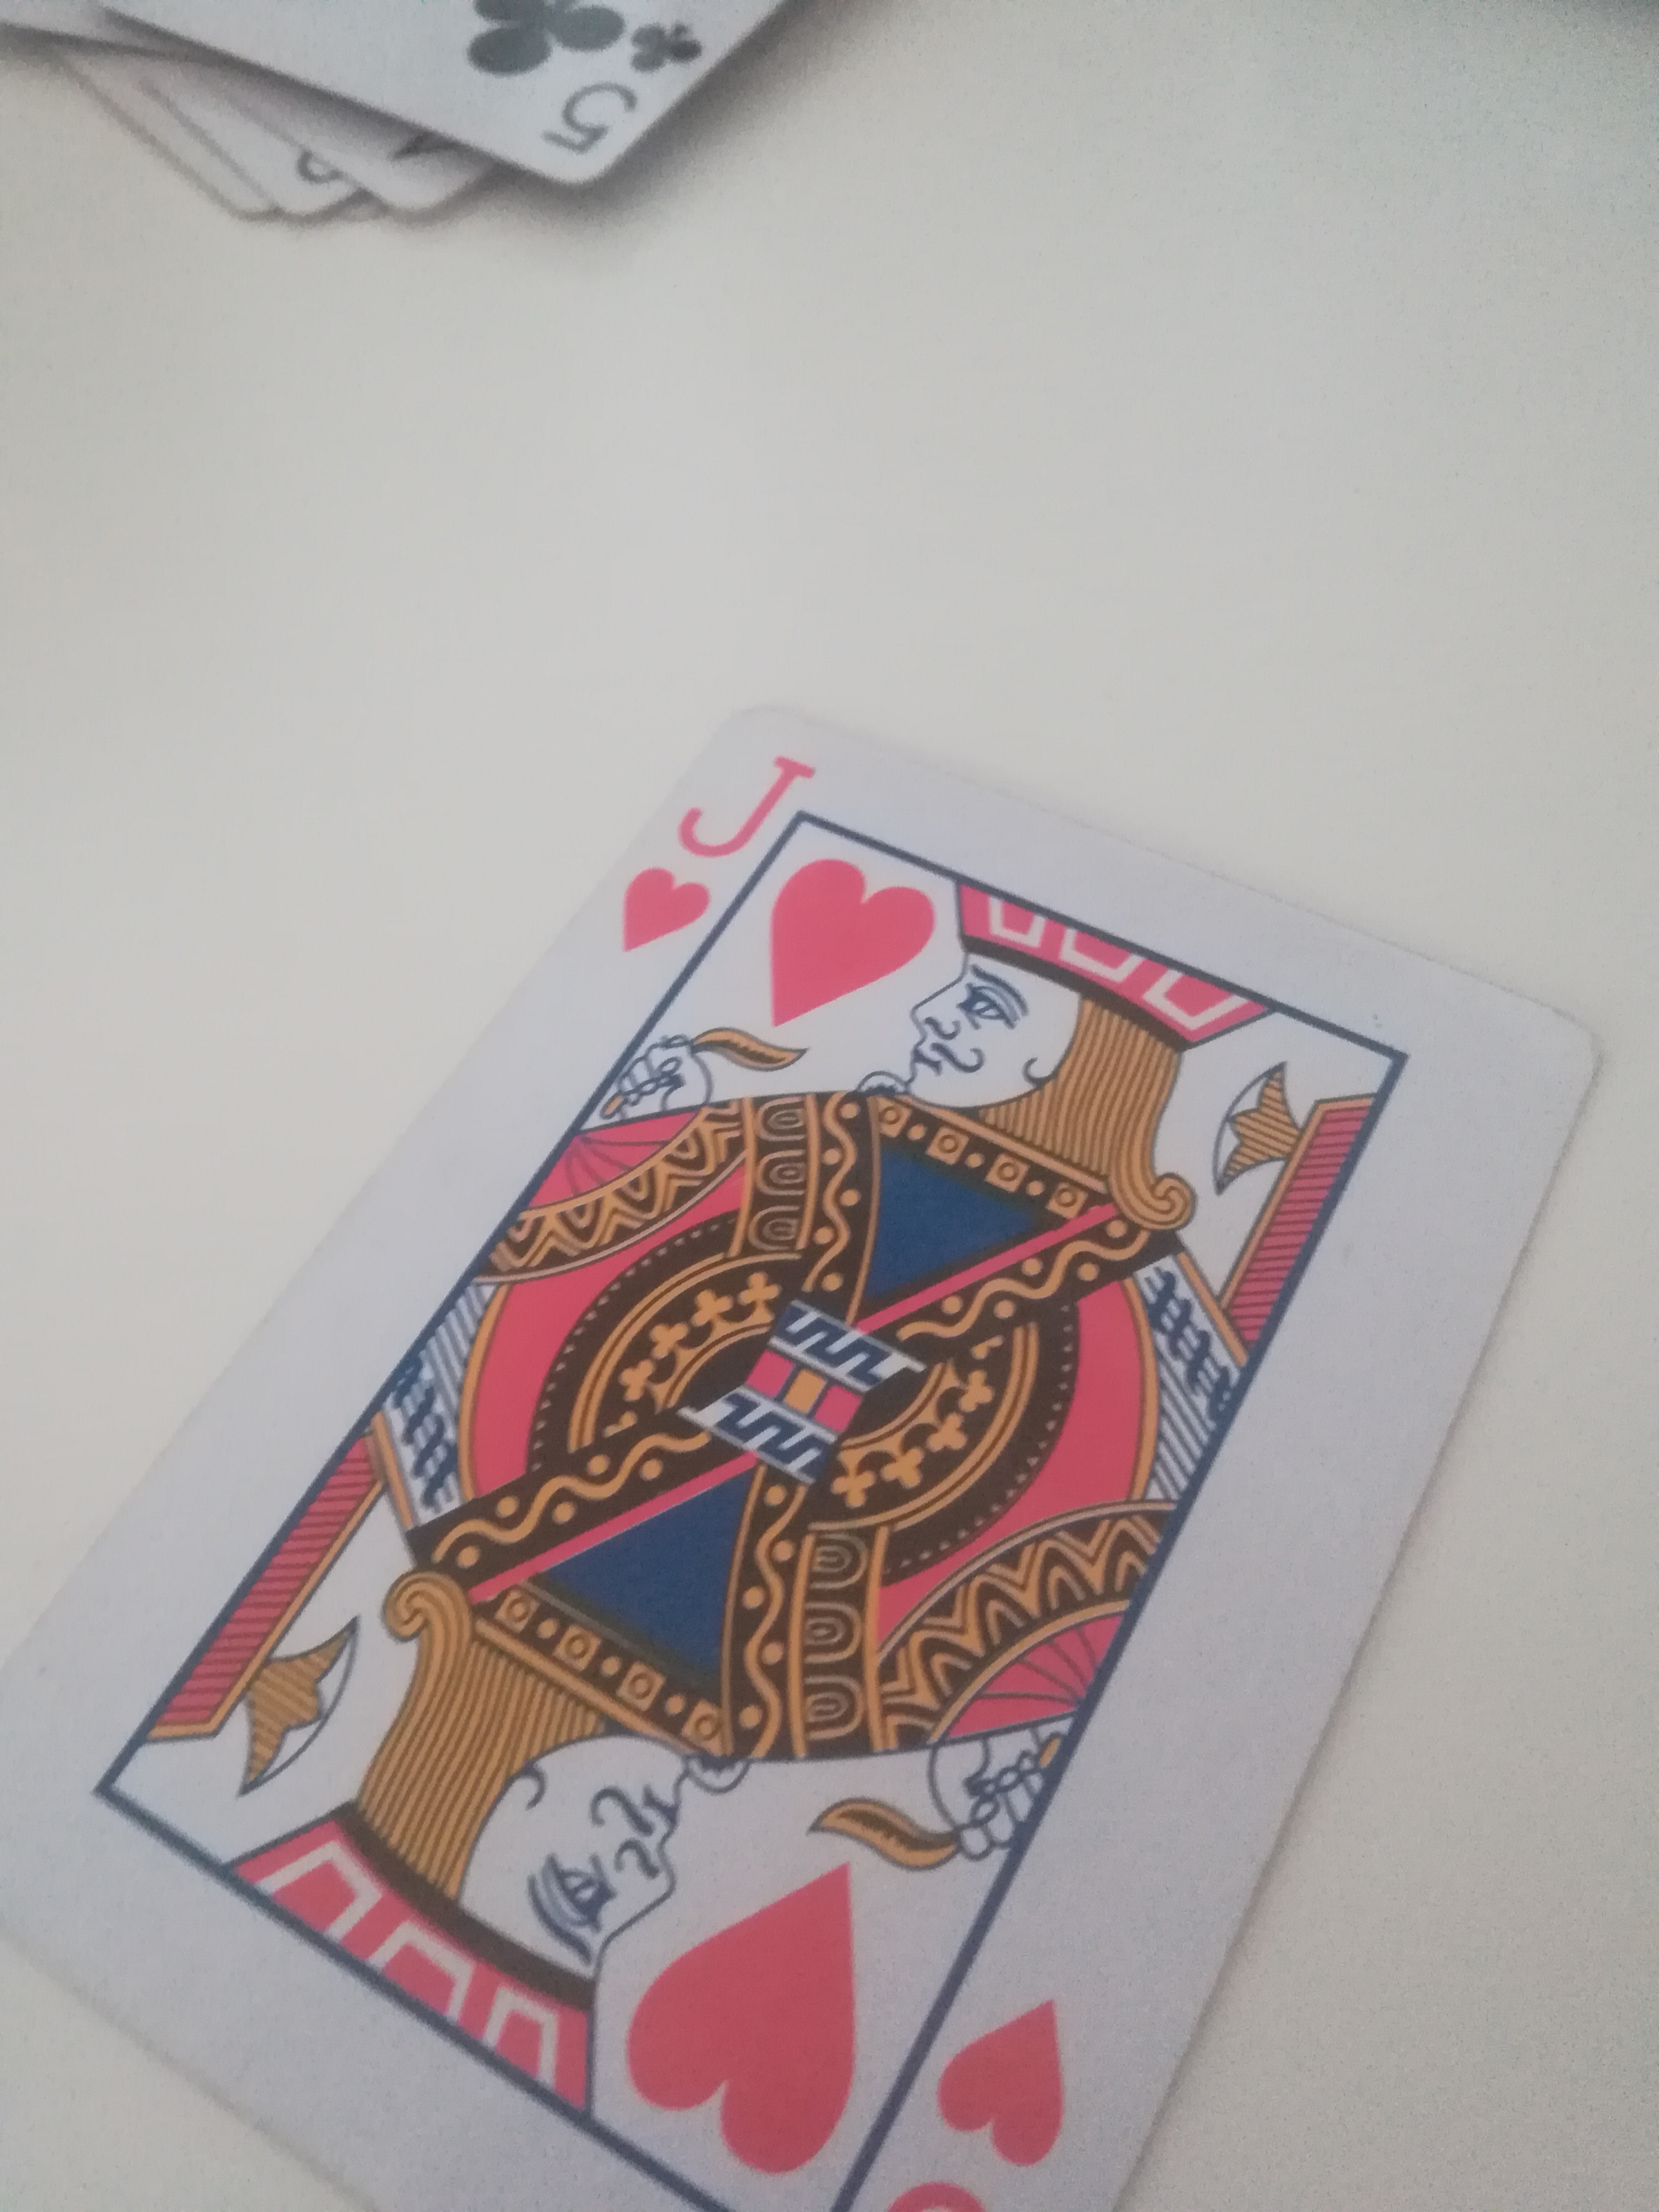JH: (0, 705, 1638, 2207)
